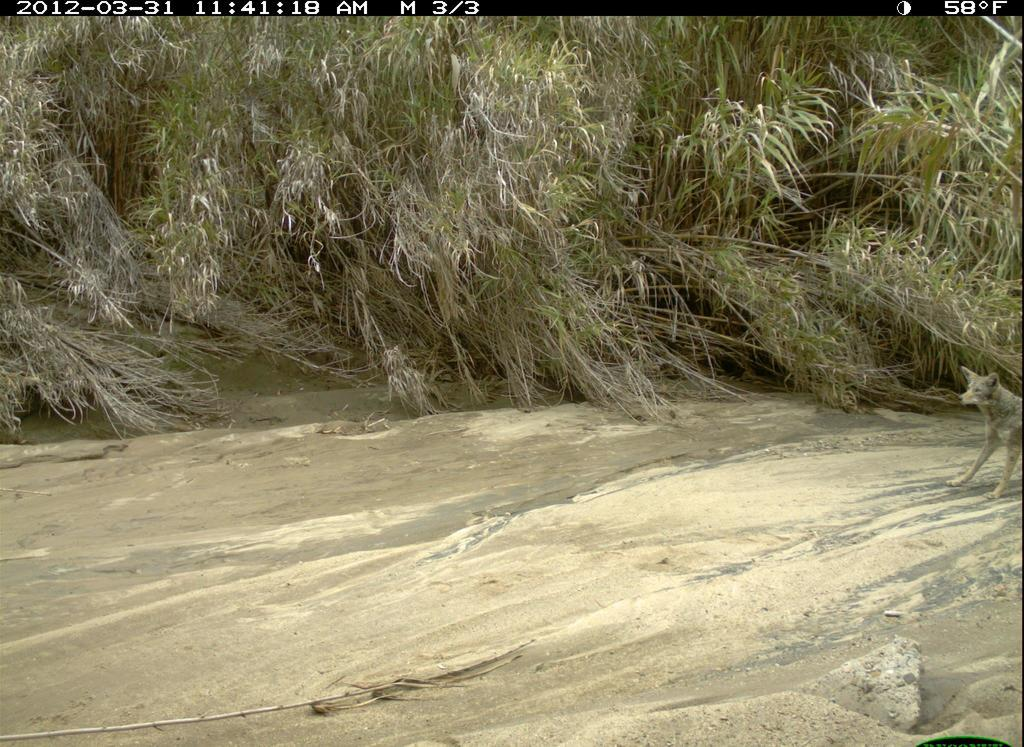coyote: (939, 346, 1023, 525)
